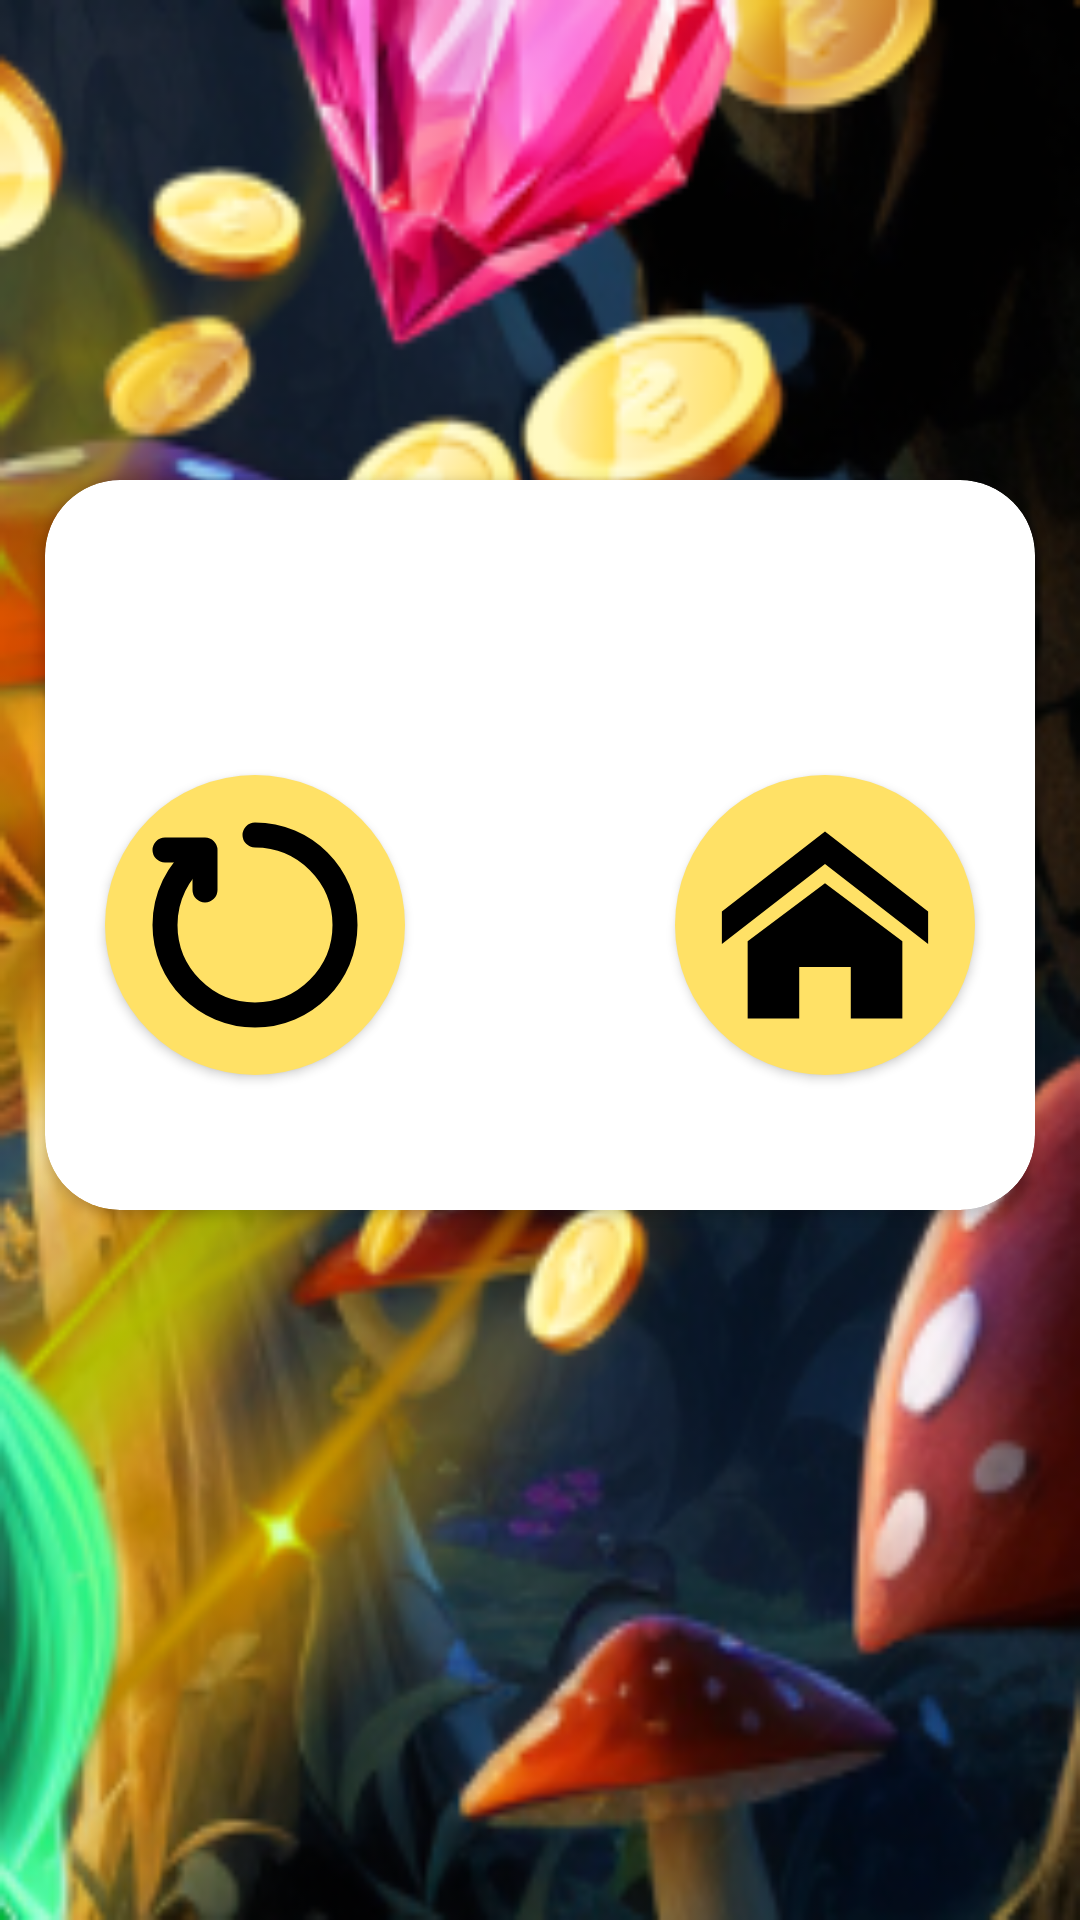

Icon bounding boxes for this 1080*1920 phone screenshot, format [x1, y1, x2, y2]:
Go to home screen: [675, 775, 975, 1075]
Restart level: [105, 775, 405, 1075]
